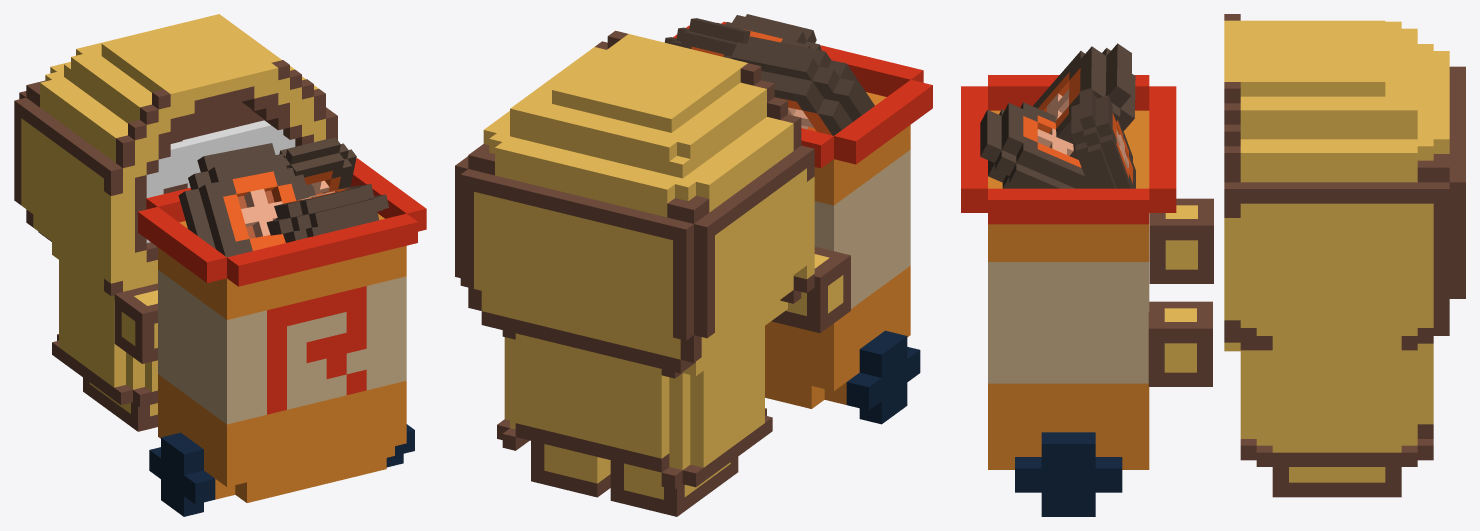
File: p1RubConDizzy.gltf
3 views of the same model, side by side, from view 1: azimuth 30°, elevation 25°; view 2: azimuth 150°, elevation 25°; view 3: azimuth 270°, elevation 25° (orthographic). The views are drawn at different scales.
Parts seen in each view (by area): view 1: Yup2Zup.001; view 2: Yup2Zup.001; view 3: Yup2Zup.001.
Boxes of the visible parts, left/top/right/bottom form: Yup2Zup.001: left=14, top=14, right=426, bottom=516; Yup2Zup.001: left=455, top=14, right=932, bottom=516; Yup2Zup.001: left=961, top=14, right=1465, bottom=516.
Bounding box in the file's own units: 1.94 × 2.8 × 3.14.
7 materials, 7 textured.
